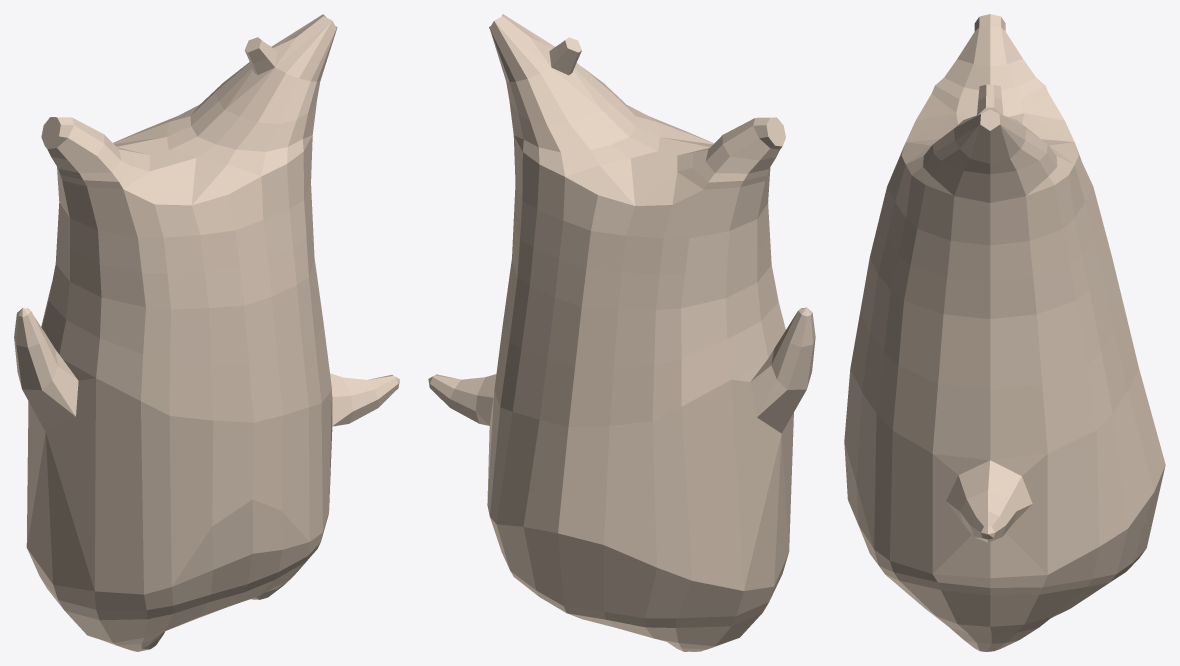
Rendered from frame_0063.obj.
The picture shows the model from 3 angles, left to right: view 1: azimuth 30°, elevation 25°; view 2: azimuth 150°, elevation 25°; view 3: azimuth 270°, elevation 25°; orthographic projection.
Visible parts, largest first — view 1: korok; view 2: korok; view 3: korok.
Part boxes in pixels (x1,y1,x2,y2): korok: (14, 14, 399, 651); korok: (428, 14, 815, 651); korok: (844, 14, 1165, 651).
Bounding box in the file's own units: 1.5 × 2.19 × 1.07.
